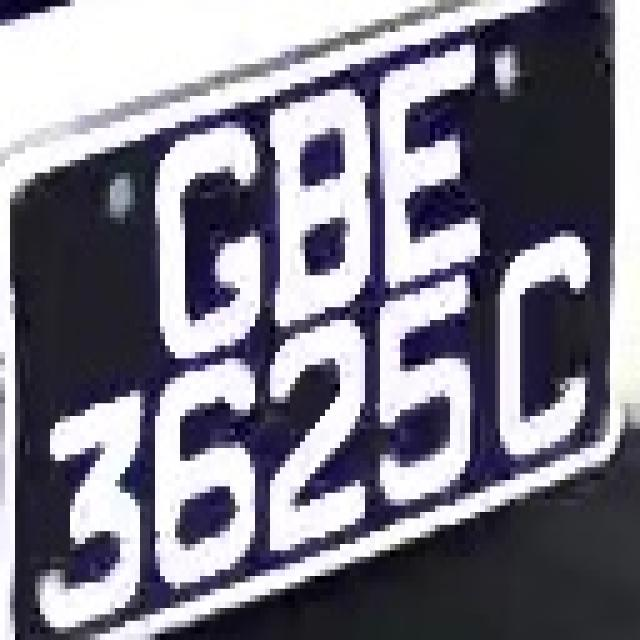2: (260, 320, 390, 563)
3: (25, 384, 155, 634)
5: (365, 275, 480, 538)
6: (140, 333, 255, 595)
B: (265, 96, 380, 326)
C: (480, 230, 610, 487)
E: (380, 38, 505, 301)
G: (135, 109, 260, 358)
